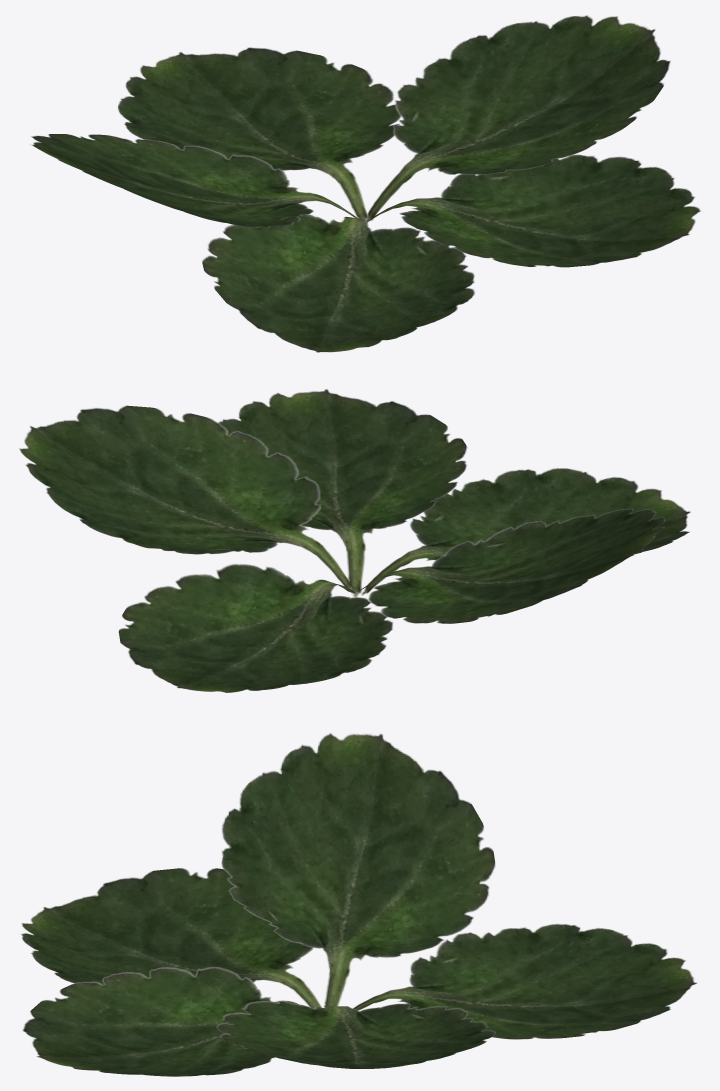
The model's file is weed.gltf.
The picture shows the model from 3 angles, top to bottom: view 1: azimuth 30°, elevation 25°; view 2: azimuth 150°, elevation 25°; view 3: azimuth 270°, elevation 25°; orthographic projection.
Visible parts, largest first — view 1: Weed; view 2: Weed; view 3: Weed.
Part boxes in pixels (<box>): Weed: <box>30,15,700,352</box>; Weed: <box>19,389,690,692</box>; Weed: <box>21,733,697,1076</box>.
Size of the model in its own units: 0.1306 by 0.0296 by 0.1226.
1 material, 1 textured.
